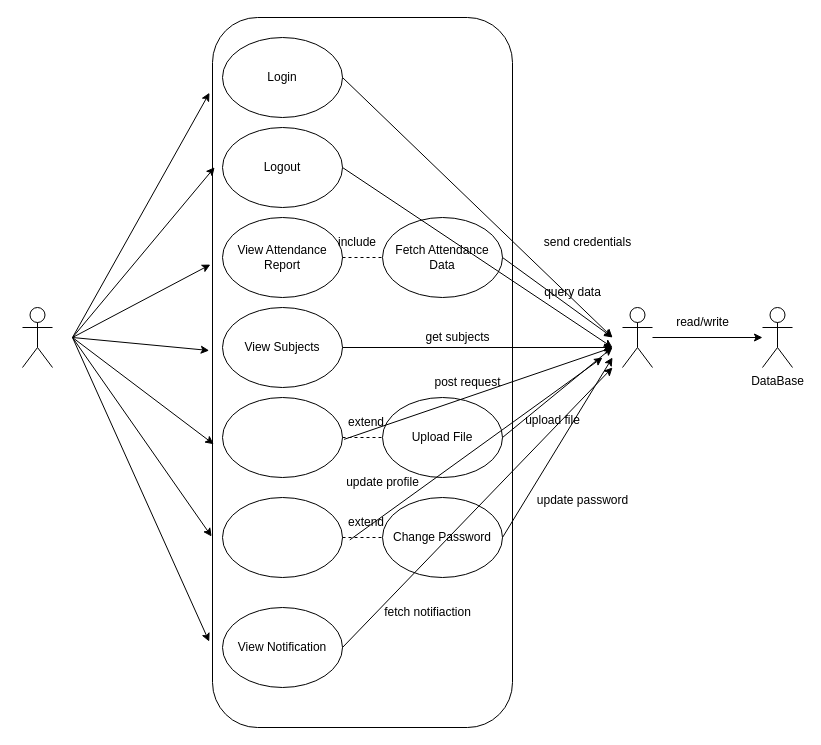
Some shapes in this 821 by 745 pixel diagram are drawn without their labels. The centre of each missing label's shape, as x and y in pixels:
API: point (637, 337)
Edit Profile: point (282, 537)
Student: point (37, 337)
Submit Attendance Request: point (282, 437)
